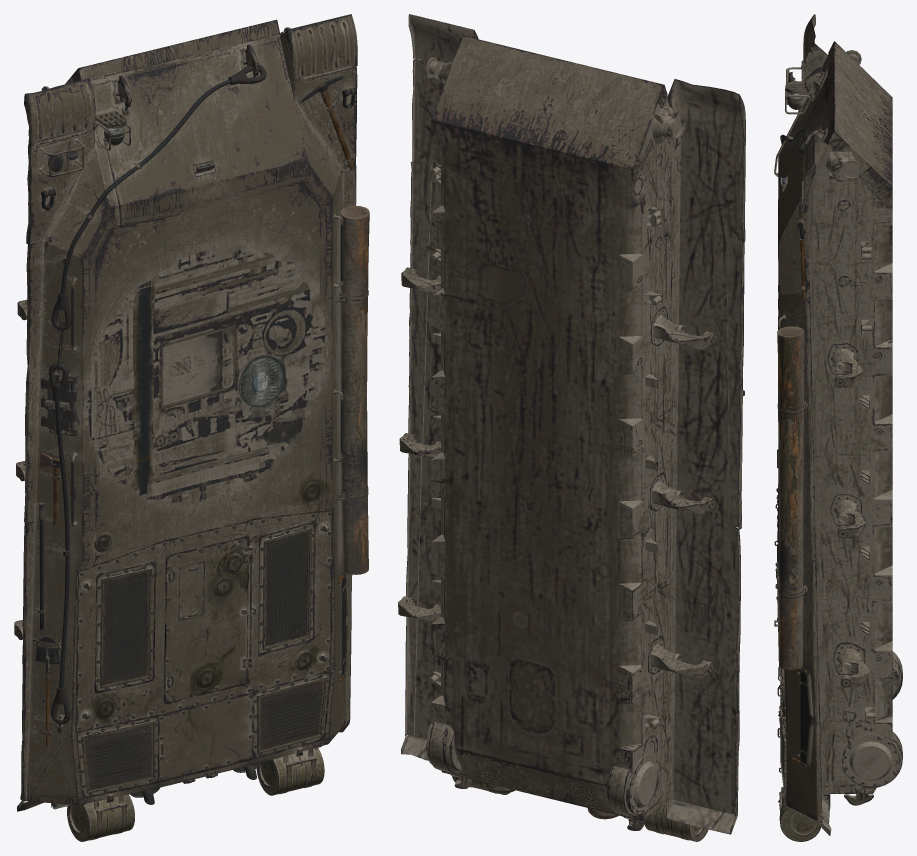
The model's file is Hull.glb.
3 renders of one model, left to right at view 1: azimuth 30°, elevation 25°; view 2: azimuth 150°, elevation 25°; view 3: azimuth 270°, elevation 25°, orthographic. The views are drawn at different scales.
Visible parts, largest first — view 1: set_0_group_0, set_0_group_1; view 2: set_0_group_0; view 3: set_0_group_0, set_0_group_1.
Boxes of the visible parts, x1,y1,x2,y2 form: set_0_group_0: (14,14,369,841); set_0_group_1: (35,65,354,746); set_0_group_0: (398,14,745,841); set_0_group_0: (774,14,902,841); set_0_group_1: (778,129,810,766).
Bounding box in the file's own units: 3.5 × 7.62 × 1.27.
2 materials, 2 textured.
